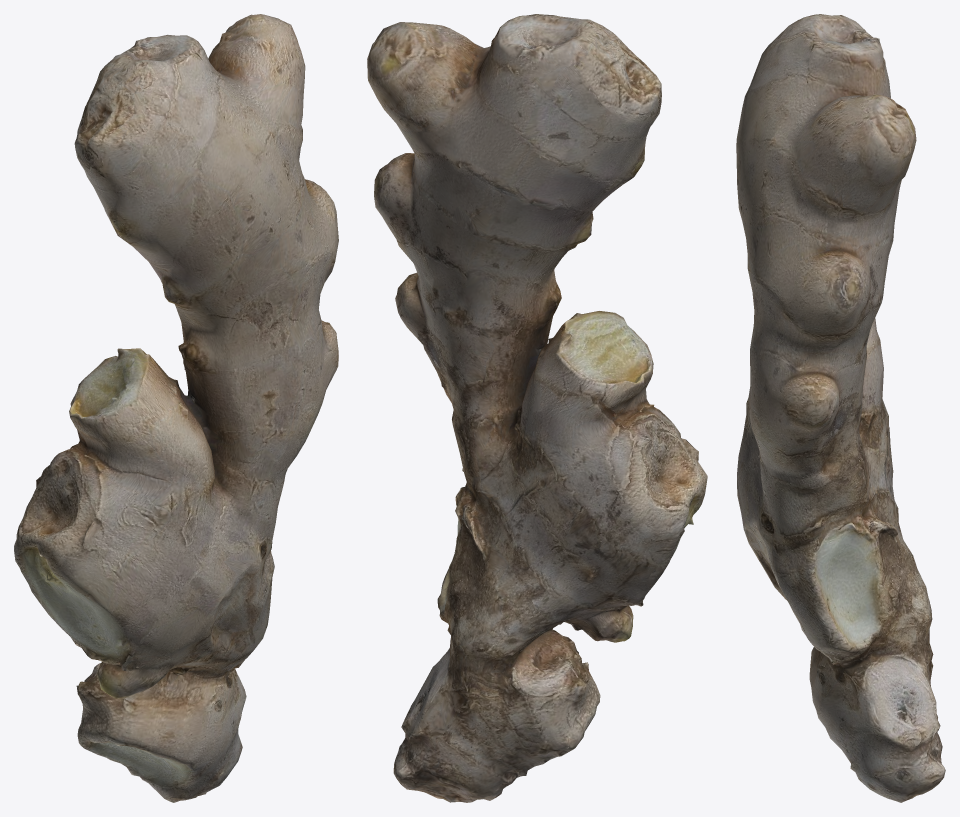
The model's file is food_ginger_01_1k.gltf.
The picture shows the model from 3 angles, left to right: view 1: azimuth 30°, elevation 25°; view 2: azimuth 150°, elevation 25°; view 3: azimuth 270°, elevation 25°; orthographic projection. The views are drawn at different scales.
Visible parts, largest first — view 1: food_ginger_01; view 2: food_ginger_01; view 3: food_ginger_01.
Boxes of the visible parts, x1,y1,x2,y2 form: food_ginger_01: [14, 14, 338, 802]; food_ginger_01: [367, 14, 707, 802]; food_ginger_01: [736, 14, 945, 802].
Size of the model in its own units: 0.2399 by 0.5746 by 0.1474.
1 material, 1 textured.
